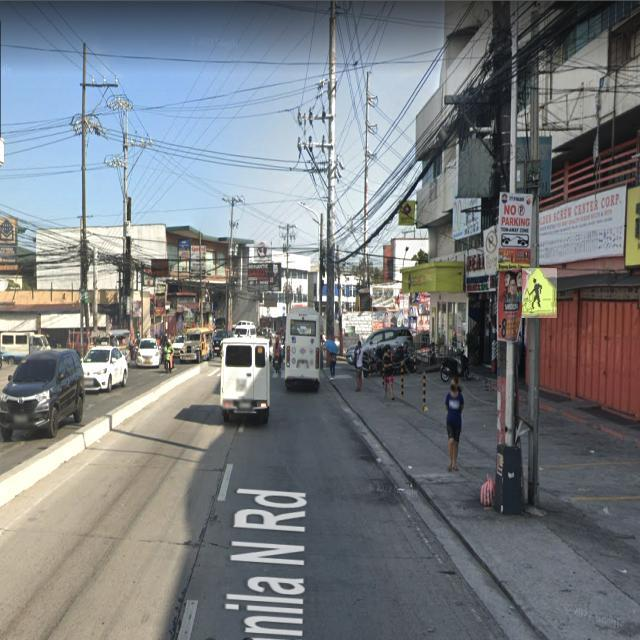pedestrian crossing: (522, 268, 557, 318)
